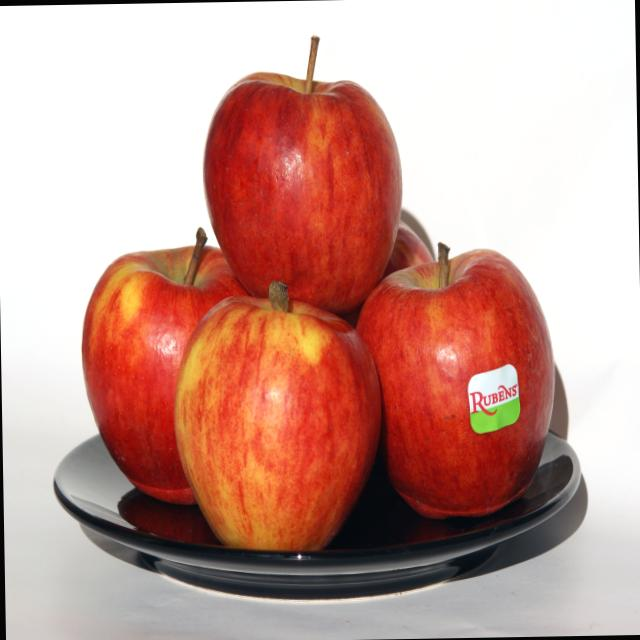apple: (178, 281, 384, 563), (196, 70, 415, 314), (362, 252, 556, 516), (78, 234, 248, 509)
